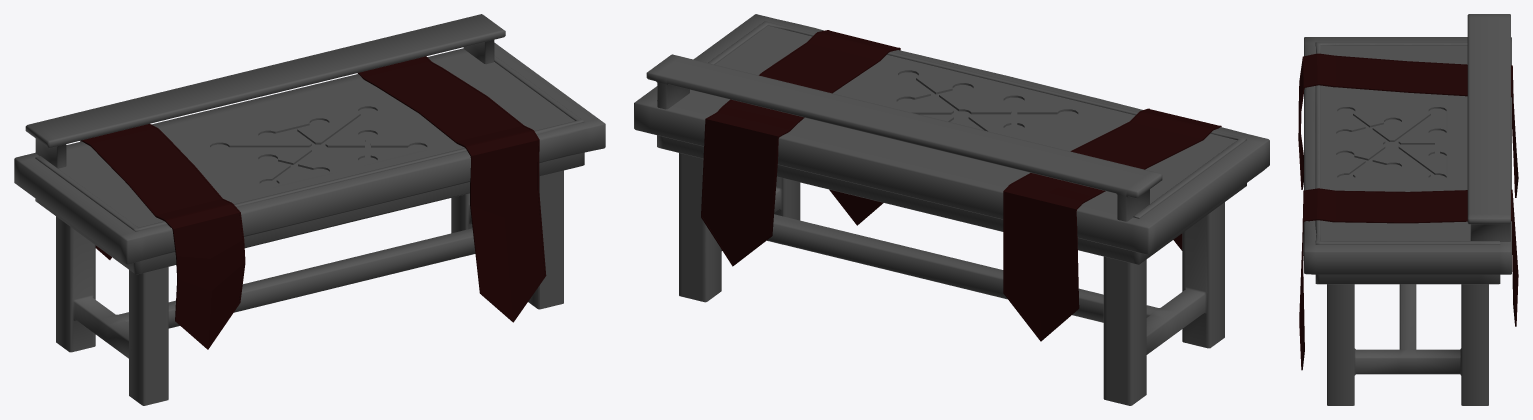
The model's file is Alchemy Table.FBX.
The picture shows the model from 3 angles, left to right: view 1: azimuth 30°, elevation 25°; view 2: azimuth 150°, elevation 25°; view 3: azimuth 270°, elevation 25°; orthographic projection. The views are drawn at different scales.
Parts seen in each view (by area): view 1: Alch table, ClothTestLauren001, Box001, Object002, Object003; view 2: Alch table, ClothTestLauren001, Box001, Object002, Object003; view 3: Alch table, ClothTestLauren001, Box001, Object002, Object003.
Part boxes in pixels (left/top/right/bottom): Alch table: left=14, top=42, right=605, bottom=274; ClothTestLauren001: left=80, top=56, right=546, bottom=349; Box001: left=56, top=170, right=563, bottom=405; Object002: left=25, top=14, right=505, bottom=168; Object003: left=202, top=103, right=435, bottom=190; Alch table: left=634, top=14, right=1269, bottom=264; ClothTestLauren001: left=701, top=30, right=1221, bottom=341; Box001: left=679, top=153, right=1224, bottom=405; Object002: left=646, top=54, right=1162, bottom=221; Object003: left=858, top=66, right=1086, bottom=144; Alch table: left=1303, top=37, right=1511, bottom=284; ClothTestLauren001: left=1298, top=53, right=1518, bottom=370; Box001: left=1327, top=284, right=1488, bottom=405; Object002: left=1467, top=14, right=1510, bottom=241; Object003: left=1334, top=105, right=1448, bottom=182.
Size of the model in its own units: 108 by 45.94 by 46.91.
